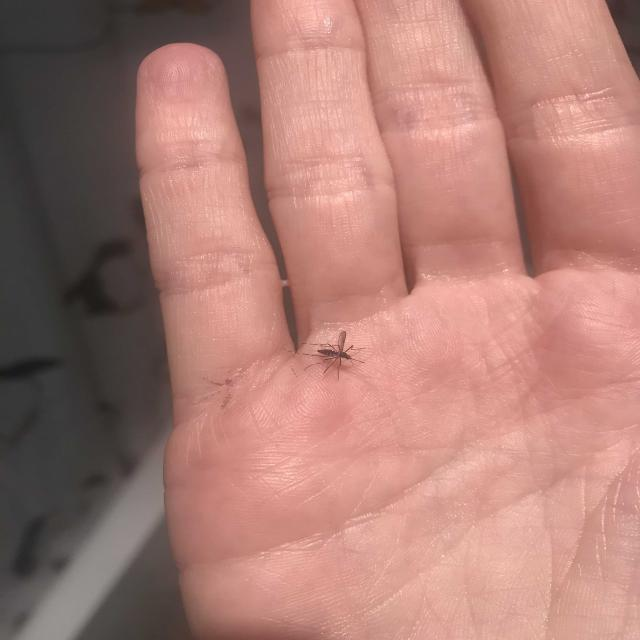albopictus: (439, 202, 507, 258)
